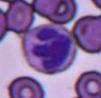N: (21, 24, 74, 74)
